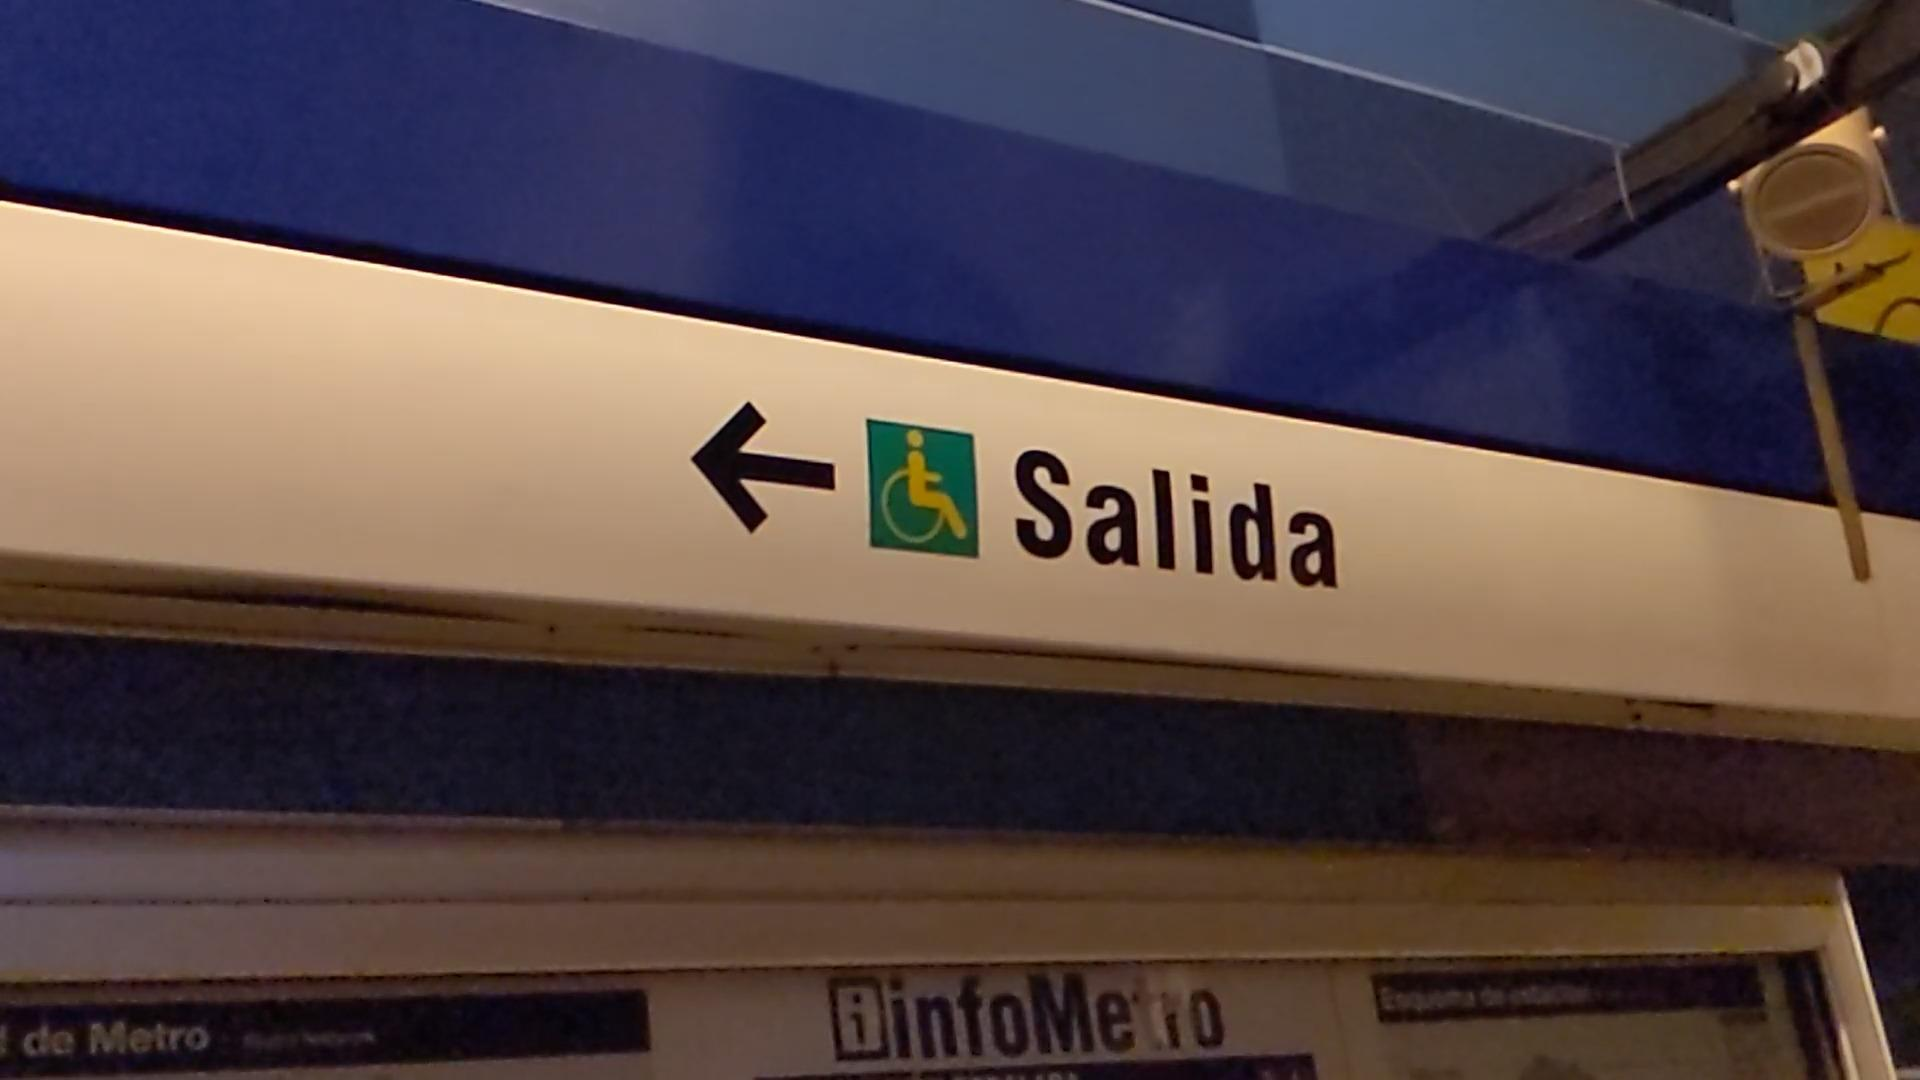handicapped symbol: (876, 427, 973, 545)
left arrow: (688, 397, 843, 538)
